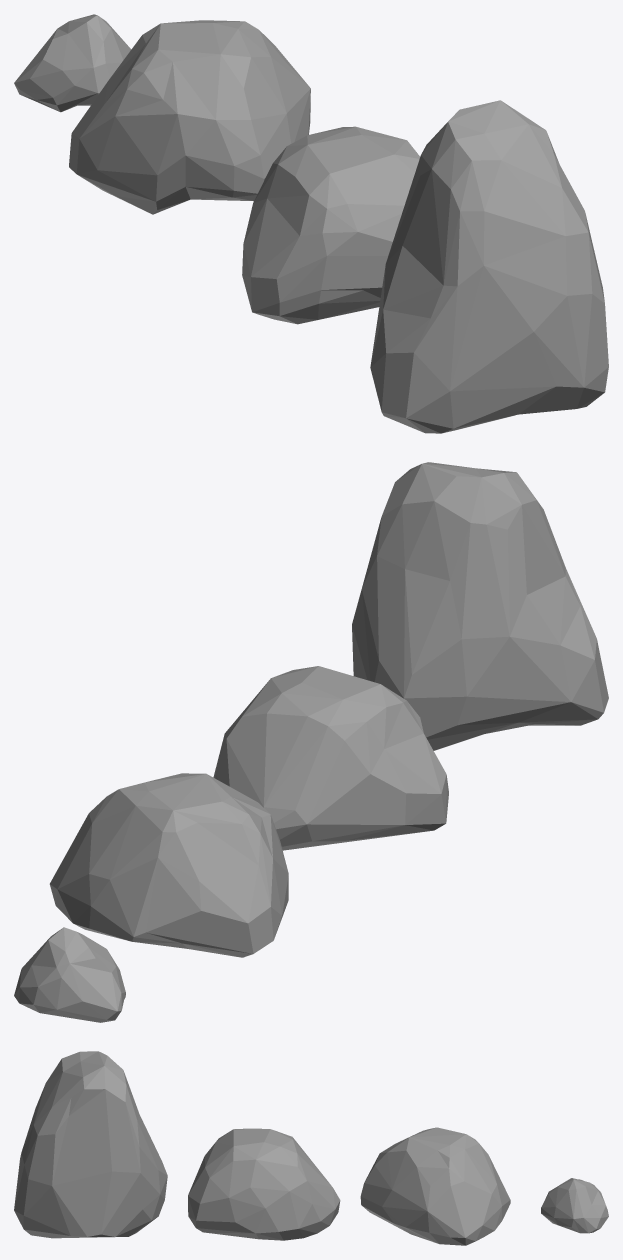
File: stones.fbx
3 views of the same model, one above another, from view 1: azimuth 30°, elevation 25°; view 2: azimuth 150°, elevation 25°; view 3: azimuth 270°, elevation 25° (orthographic). The views are drawn at different scales.
Parts seen in each view (by area): view 1: Stone4, Stone2, Stone3, Stone1; view 2: Stone4, Stone2, Stone3, Stone1; view 3: Stone4, Stone3, Stone2, Stone1.
Boxes of the visible parts, x1,y1,x2,y2 form: Stone4: (370, 100, 608, 433); Stone2: (69, 20, 310, 214); Stone3: (242, 126, 419, 324); Stone1: (14, 14, 131, 112); Stone4: (352, 462, 608, 750); Stone2: (49, 773, 288, 957); Stone3: (213, 666, 448, 850); Stone1: (14, 927, 125, 1022); Stone4: (14, 1051, 167, 1238); Stone3: (188, 1128, 340, 1240); Stone2: (360, 1127, 510, 1245); Stone1: (541, 1178, 608, 1233).
Bounding box in the file's own units: 2.42 × 2.61 × 8.46.
